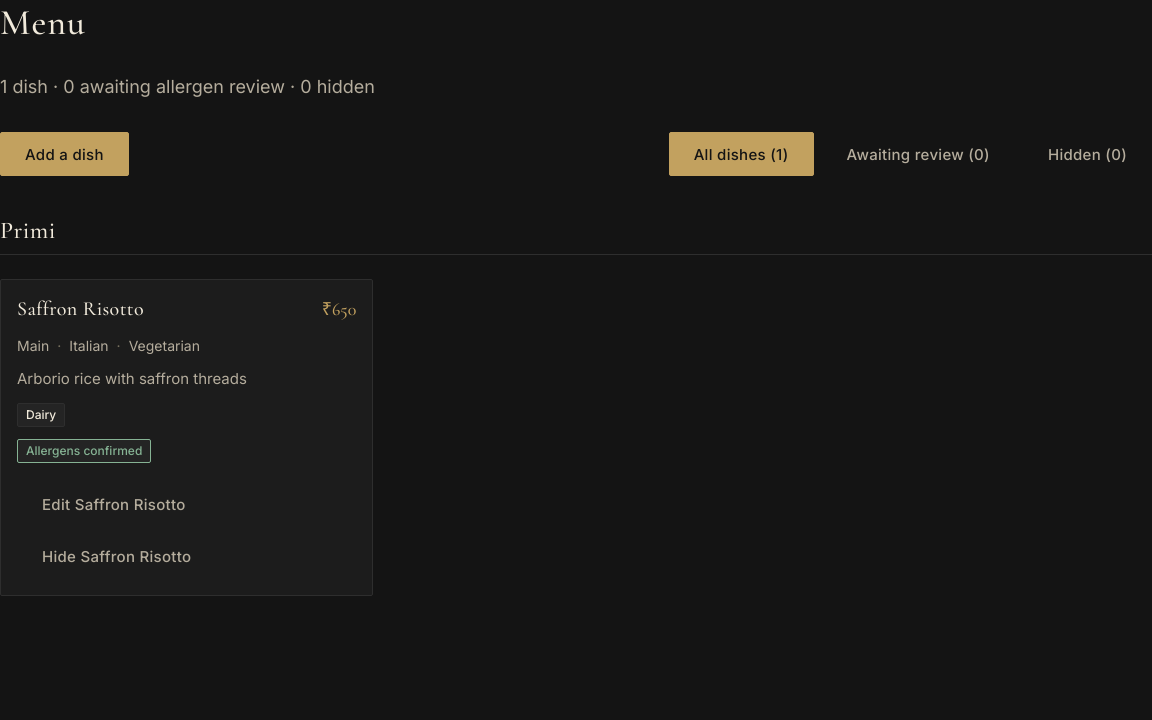
it: MenuManager page › 10. edit flow sends ONLY changed field and never unchanged allergens
Expected: the heading "Saffron Risotto" is shown, [17, 297, 144, 322]
Click the button "Edit Saffron Risotto": (114, 504) [17, 482, 210, 526]
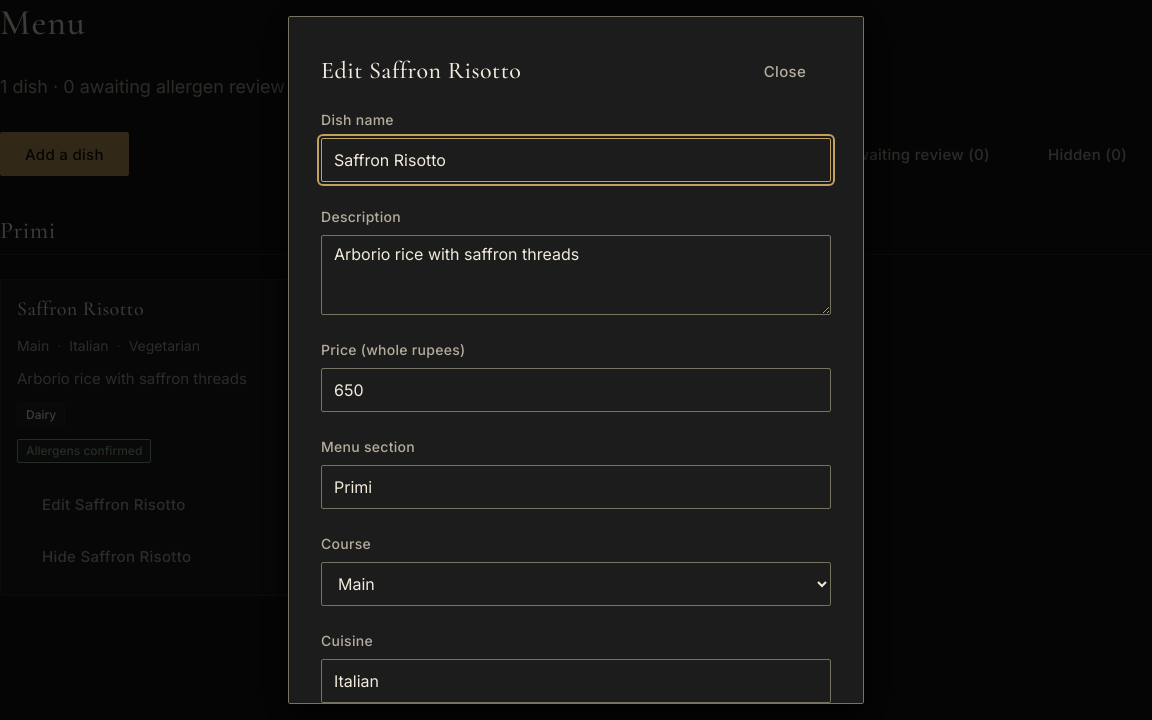
Replace the text in the field labelled "Price (whole rupees)" with "700": (576, 390) [321, 368, 831, 412]
(page scrolled)
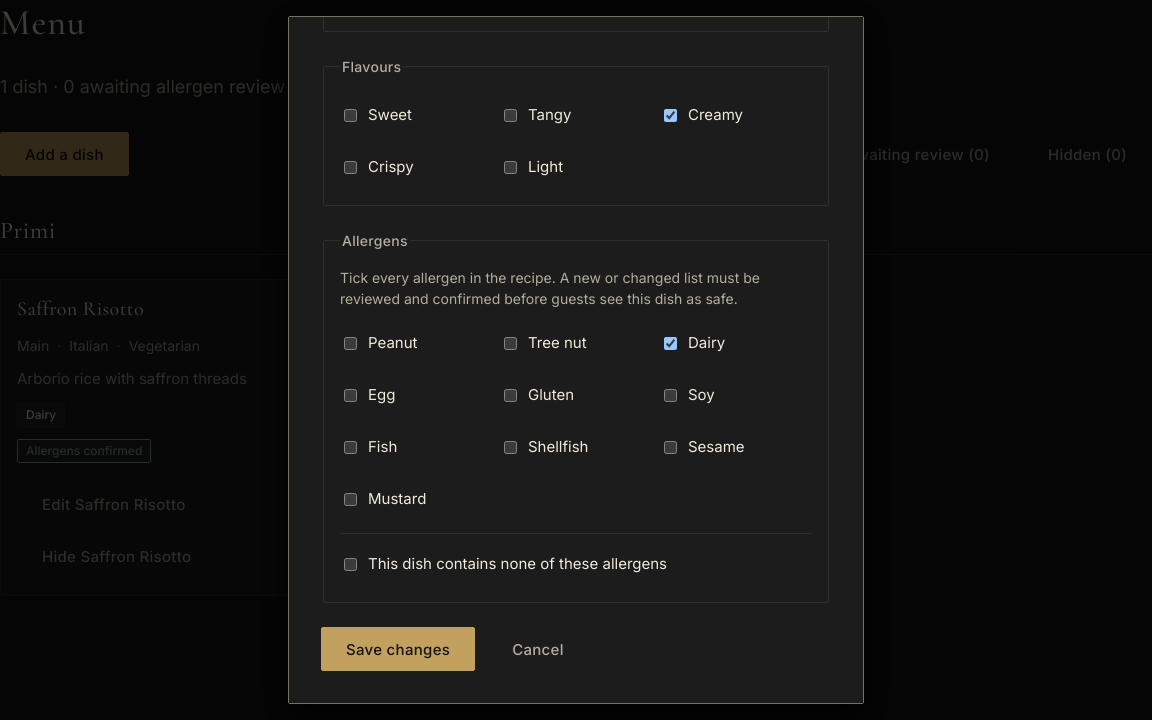
Click the button "Save changes": (398, 649) [321, 627, 475, 671]
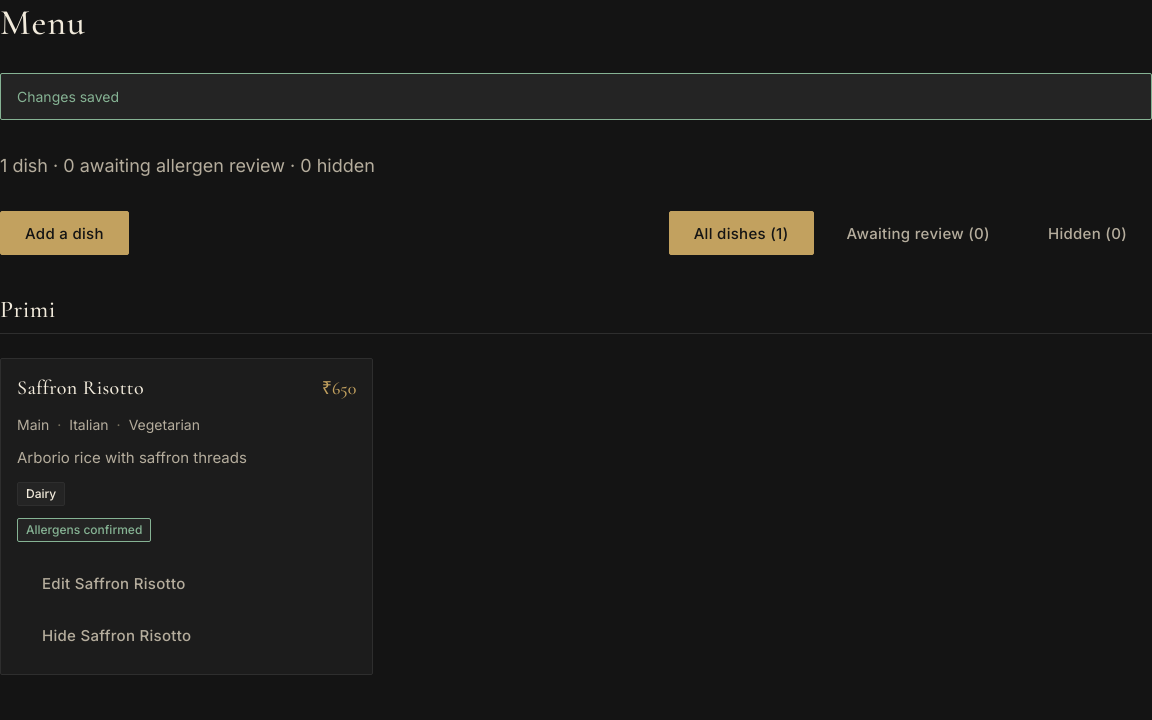
Expected: the text "Changes saved" is shown, [0, 73, 1151, 120]
